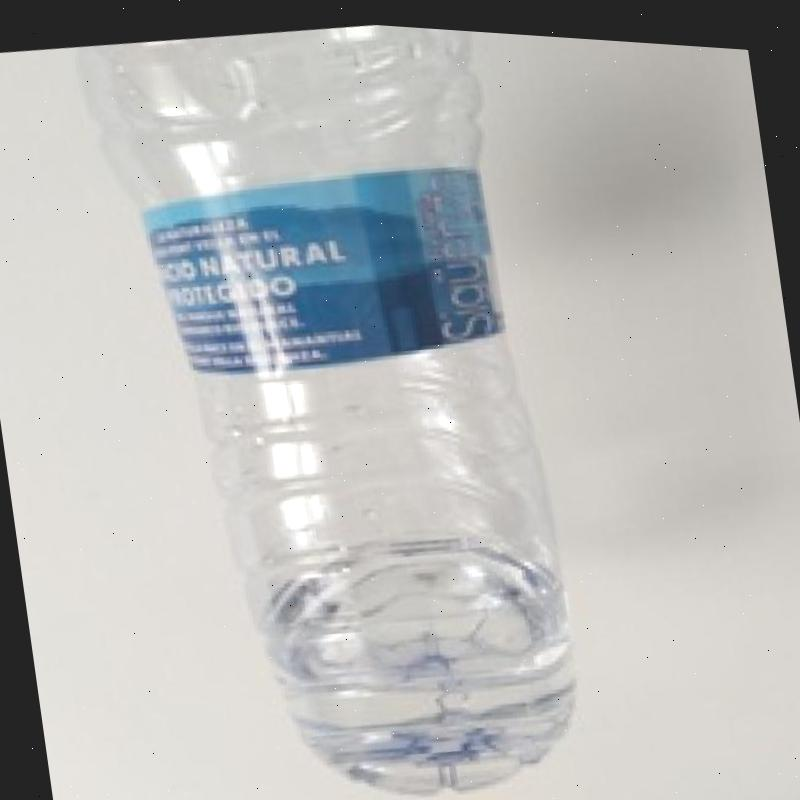botella: (74, 4, 592, 800)
